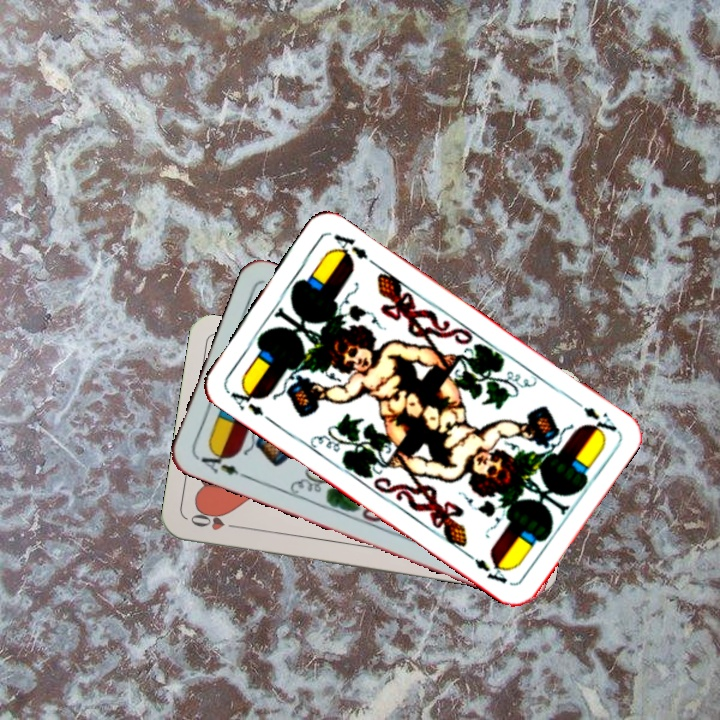EA: (568, 395, 620, 438), (193, 445, 251, 481), (222, 380, 267, 419)
HO: (186, 507, 244, 533)
